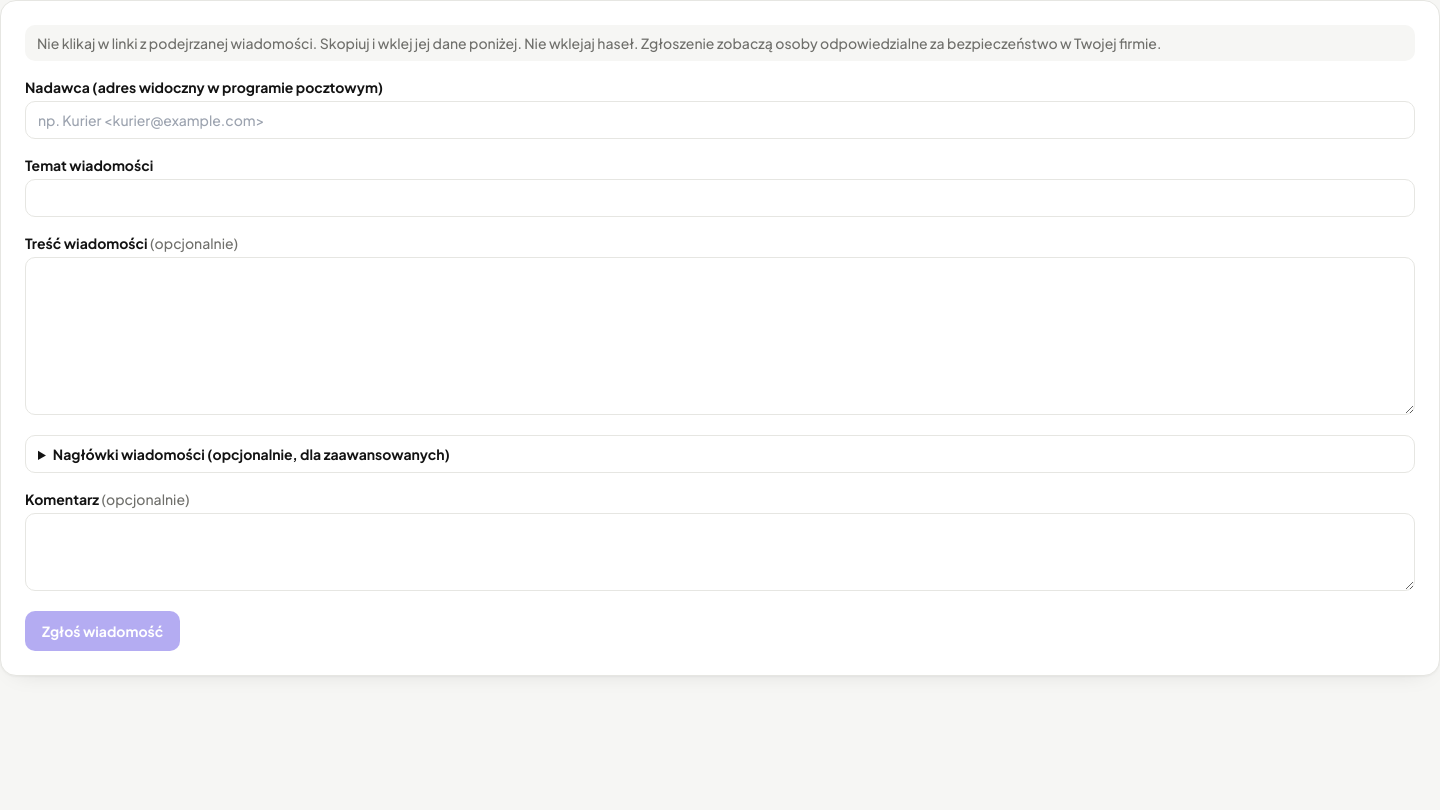
Test: ReportForm › błąd sieci pokazuje komunikat, a nie wyjątek
In the field labelled "Nadawca (adres widoczny w programie pocztowym)": x=720, y=120 [25,101,1415,139], type "Obcy <obcy@example.test>"
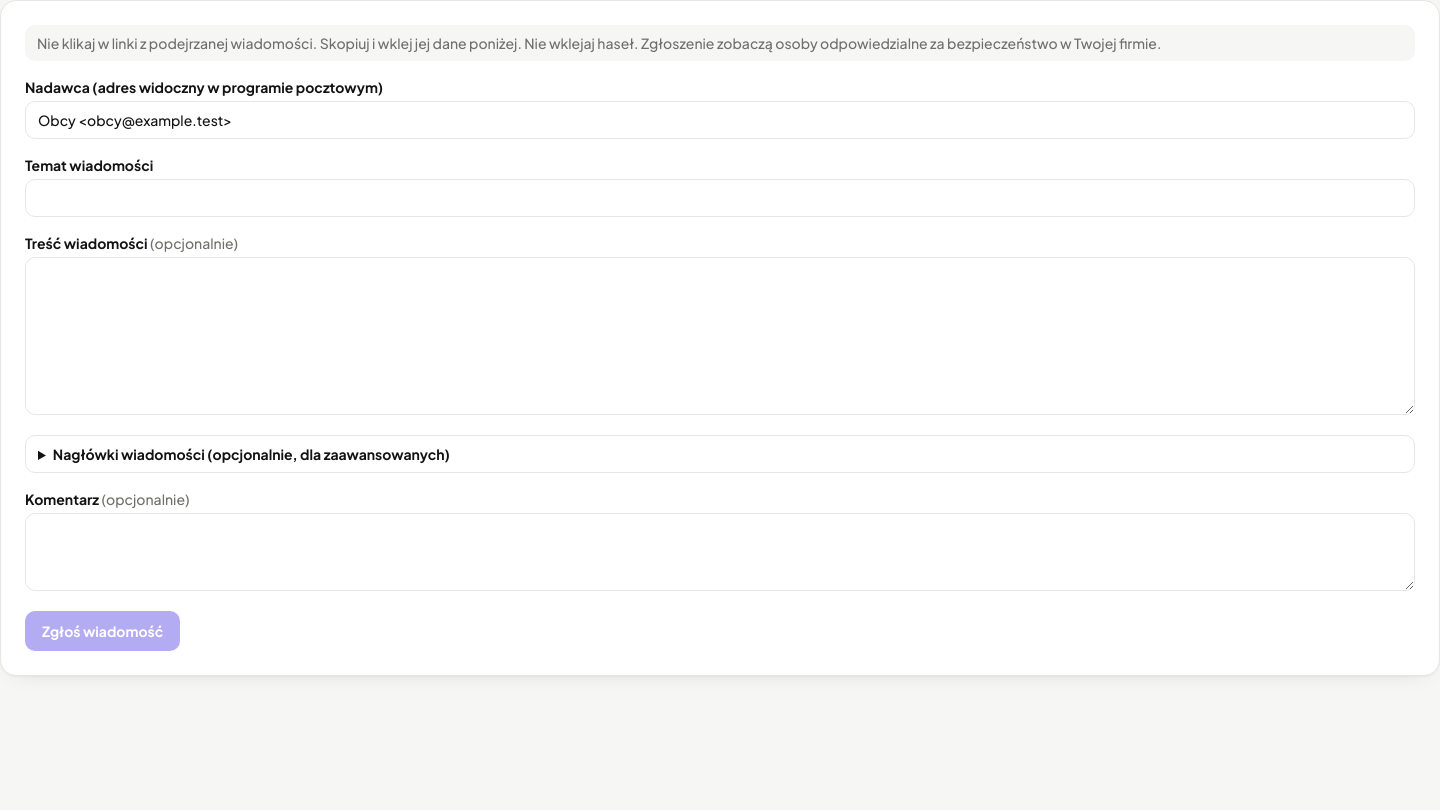
In the field labelled "Temat wiadomości": x=720, y=198 [25,179,1415,217], type "Faktura"
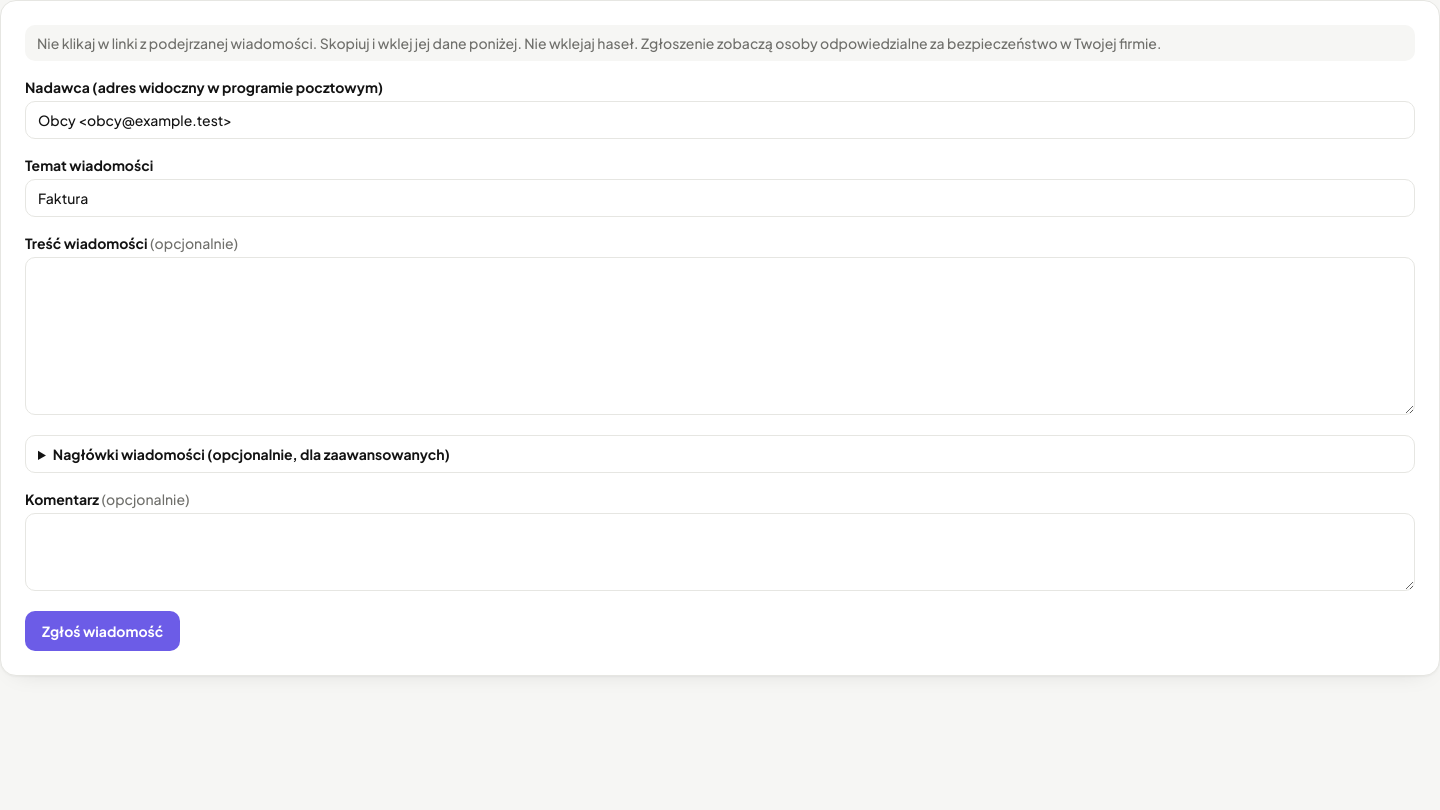
Click the button "Zgłoś wiadomość": x=103, y=631 [25,611,180,651]
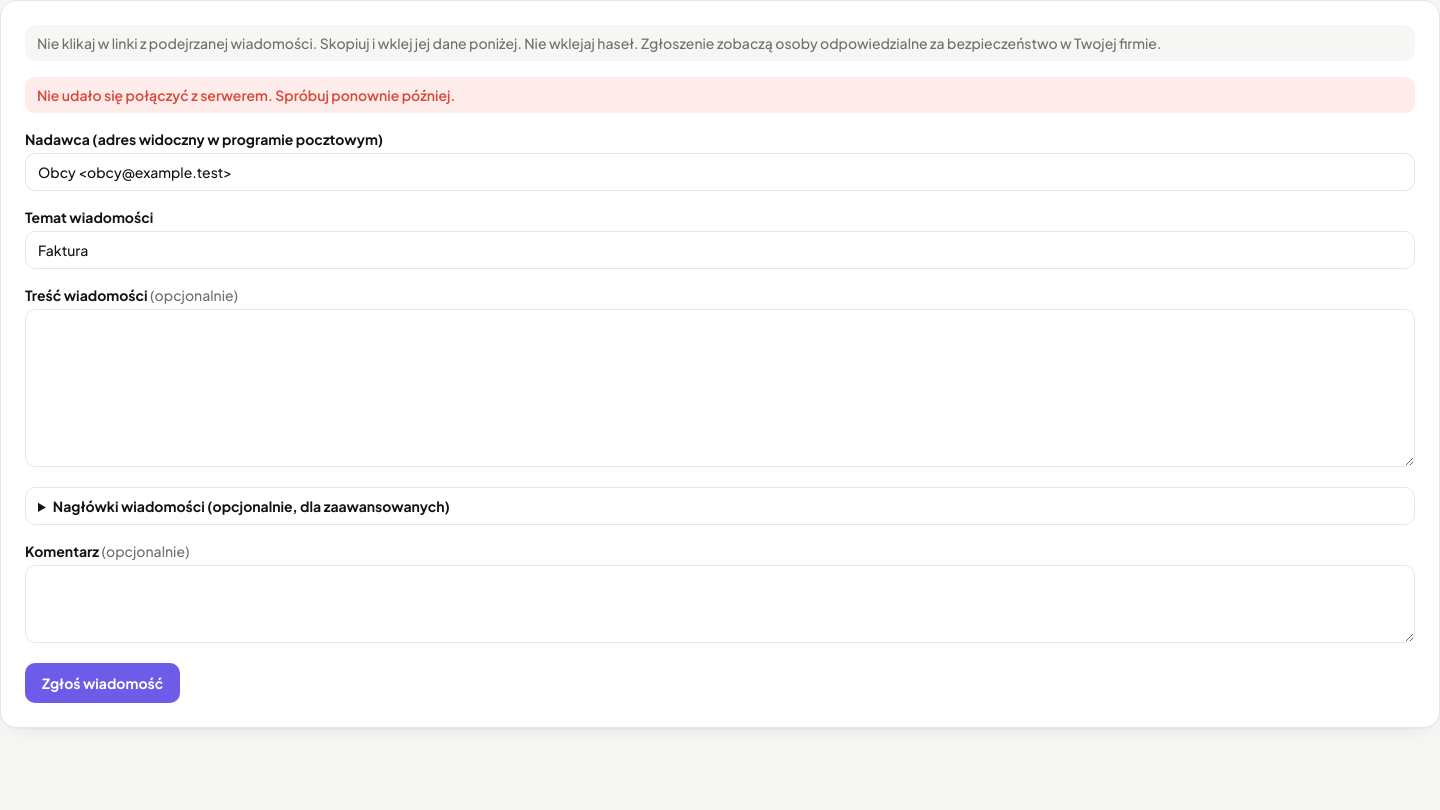
Expected: the message shows "Nie udało się połączyć z serwerem", [37,86,455,104]
